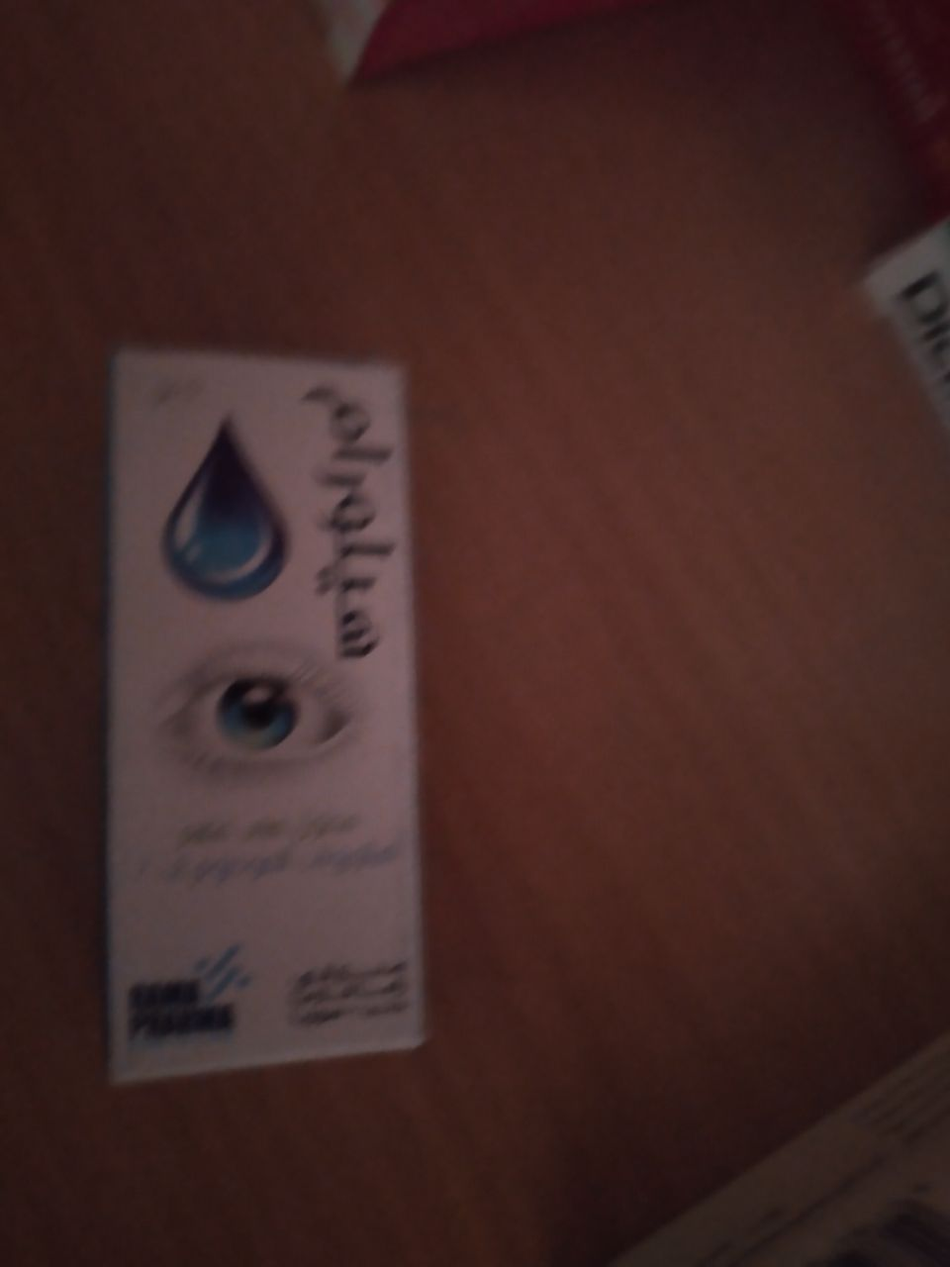Medicine: (96, 333, 429, 1092)
